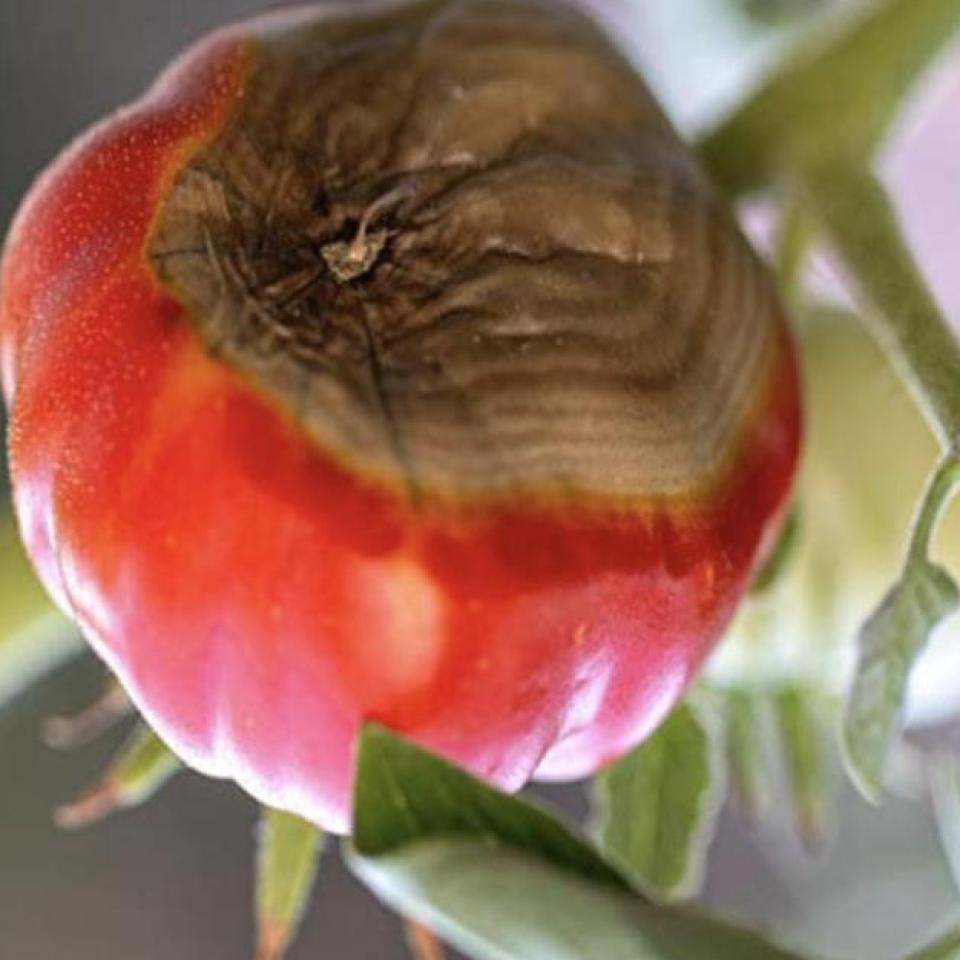Blossom_end_rot: (149, 0, 777, 517)
